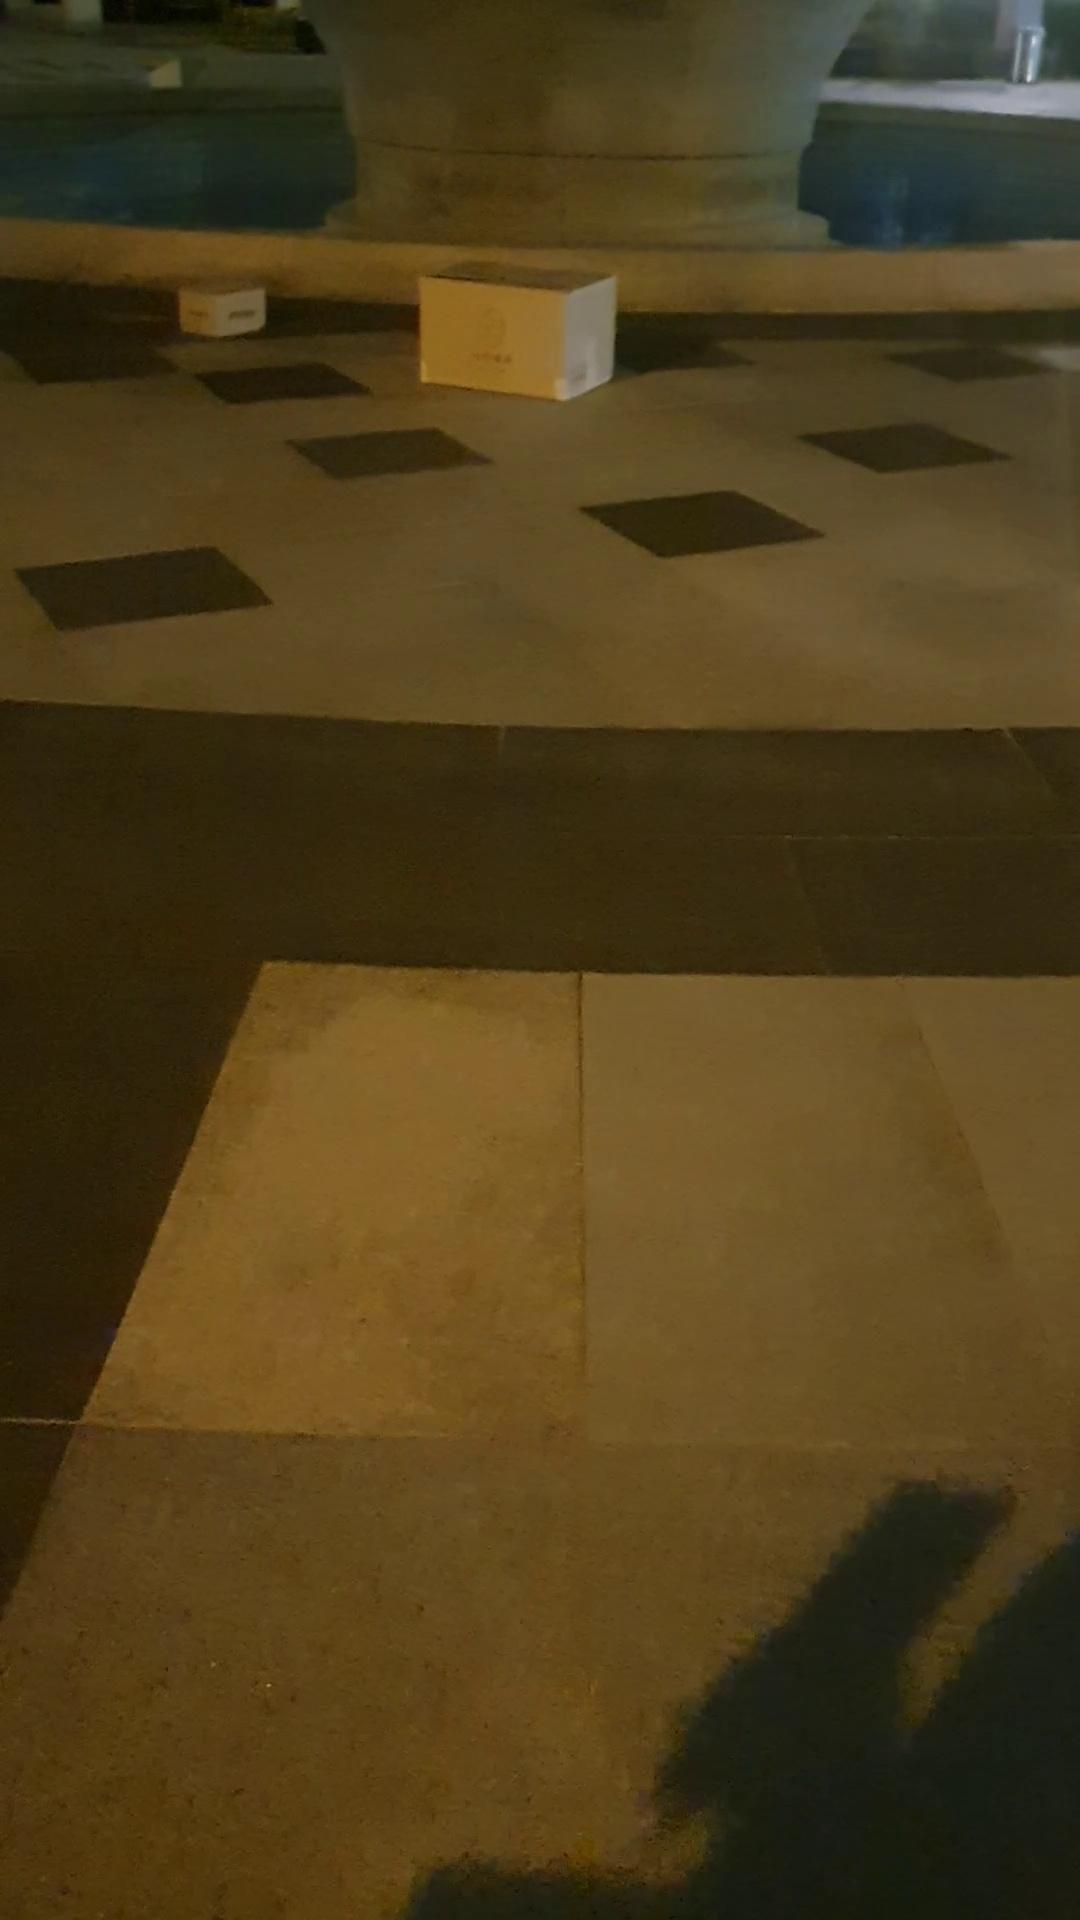Box: (392, 237, 640, 415), (171, 262, 285, 349)
